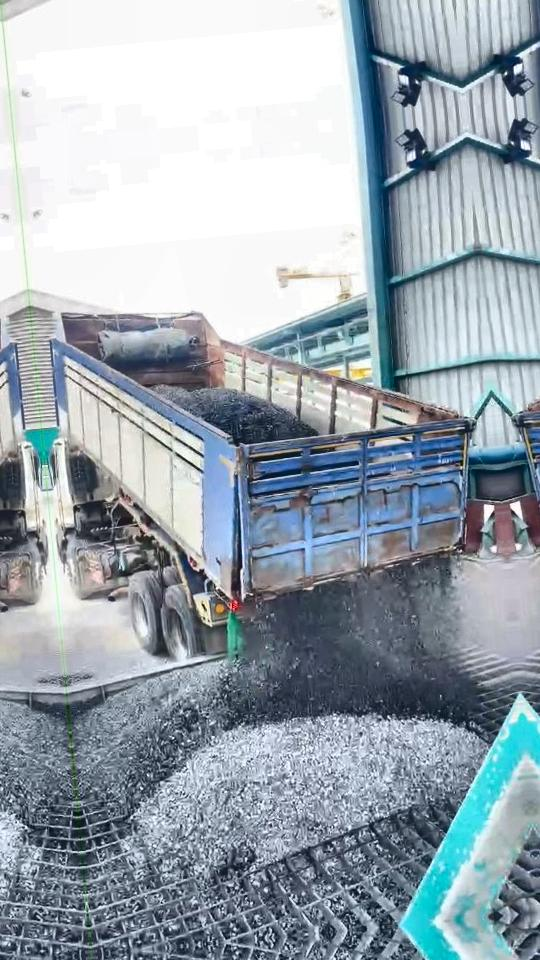gravel: (135, 714, 486, 877), (228, 557, 474, 722), (72, 661, 261, 816), (153, 385, 317, 444)
